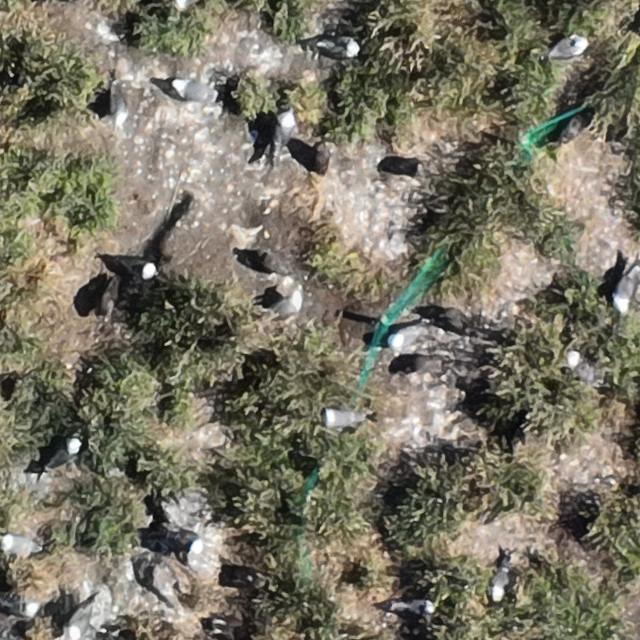umineko: (388, 321, 437, 347), (564, 351, 601, 383), (110, 256, 154, 281), (69, 600, 94, 637), (46, 440, 79, 467), (167, 530, 203, 554), (173, 81, 216, 101), (112, 82, 130, 127), (314, 40, 358, 57), (269, 294, 303, 316), (2, 596, 39, 616), (549, 38, 581, 59), (3, 536, 38, 555), (276, 112, 294, 147), (325, 409, 359, 427), (492, 568, 511, 599), (614, 279, 633, 309), (392, 599, 432, 613), (175, 0, 200, 7)
